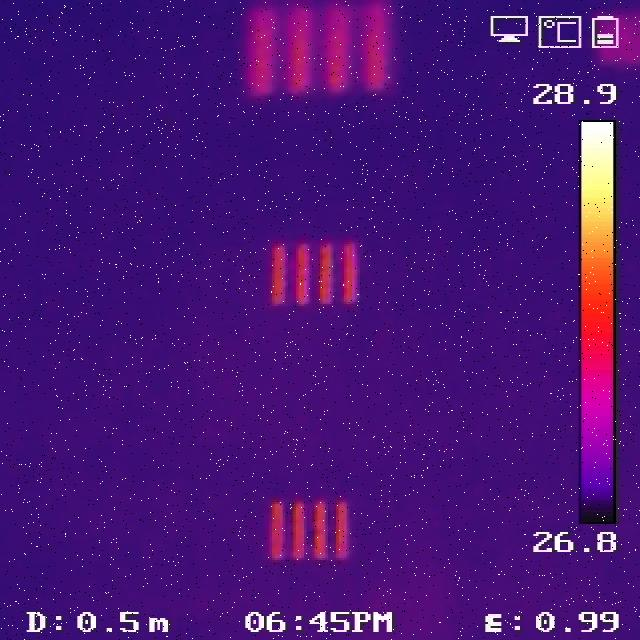Distinguishable 4-bar target: (238, 3, 406, 100), (262, 236, 366, 311), (267, 496, 352, 562)
